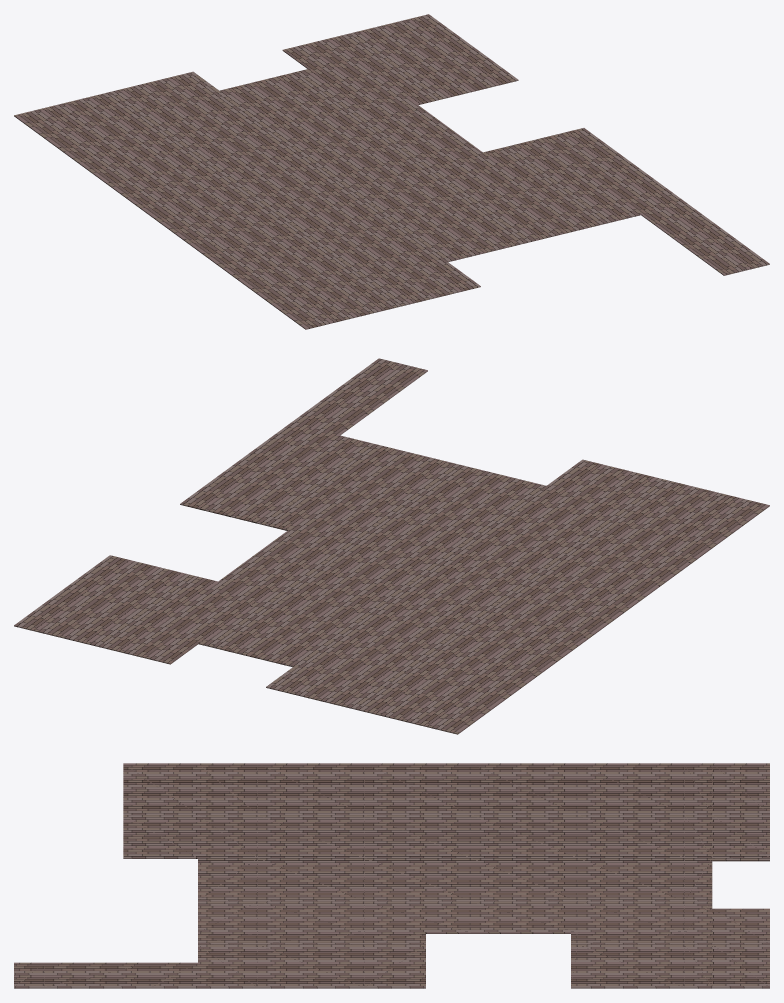
Rendered from plane floor 2 .fbx.
3 views of the same model, one above another, from view 1: azimuth 30°, elevation 25°; view 2: azimuth 150°, elevation 25°; view 3: azimuth 270°, elevation 25° (orthographic). The views are drawn at different scales.
Visible parts, largest first — view 1: Plane floor 2, Plane floor 2.005, Plane floor 2.006, Plane floor 2.002, Plane floor 2.003, Plane floor 2.001, Plane floor 2.004; view 2: Plane floor 2, Plane floor 2.005, Plane floor 2.006, Plane floor 2.002, Plane floor 2.003, Plane floor 2.004, Plane floor 2.001; view 3: Plane floor 2, Plane floor 2.005, Plane floor 2.006, Plane floor 2.002, Plane floor 2.003, Plane floor 2.001, Plane floor 2.004.
Part boxes in pixels (x1,y1,x2,y2): Plane floor 2: (40, 58, 585, 304); Plane floor 2.005: (483, 128, 686, 228); Plane floor 2.006: (354, 33, 518, 104); Plane floor 2.002: (272, 261, 480, 329); Plane floor 2.003: (14, 71, 218, 134); Plane floor 2.001: (641, 203, 769, 275); Plane floor 2.004: (282, 14, 454, 68); Plane floor 2: (150, 449, 733, 713); Plane floor 2.005: (180, 423, 397, 530); Plane floor 2.006: (42, 555, 217, 631); Plane floor 2.002: (547, 459, 769, 532); Plane floor 2.003: (266, 666, 485, 734); Plane floor 2.004: (14, 605, 198, 664); Plane floor 2.001: (290, 358, 427, 435); Plane floor 2: (198, 763, 712, 933); Plane floor 2.005: (198, 933, 425, 988); Plane floor 2.006: (571, 933, 712, 988); Plane floor 2.002: (123, 763, 197, 858); Plane floor 2.003: (712, 763, 769, 861); Plane floor 2.001: (14, 962, 197, 988); Plane floor 2.004: (712, 908, 769, 988).
Size of the model in its own units: 3730 by 7.77 by 5312.
Materials: 1 (1 with a texture image).
